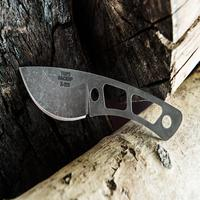knife: (12, 53, 186, 142)
